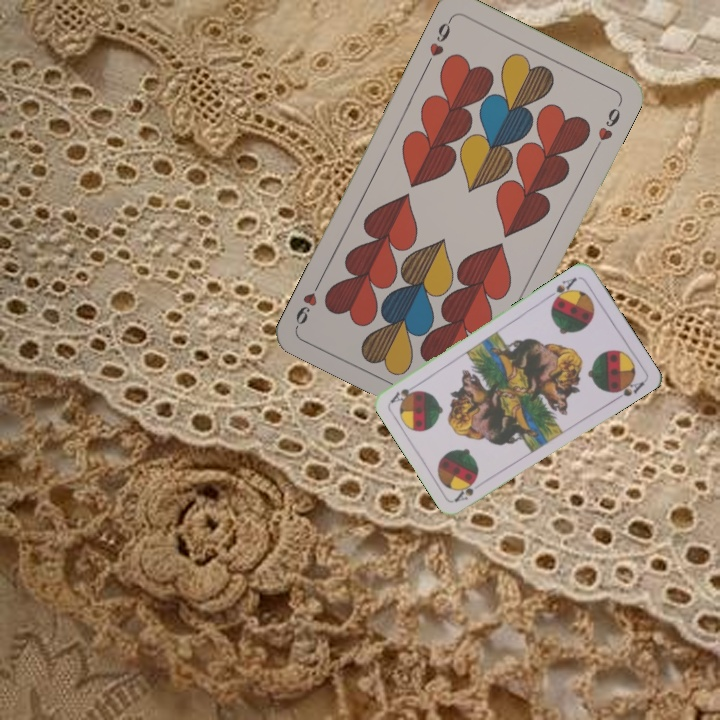H9: (422, 14, 455, 69)
SA: (544, 273, 580, 305), (451, 475, 480, 504)
